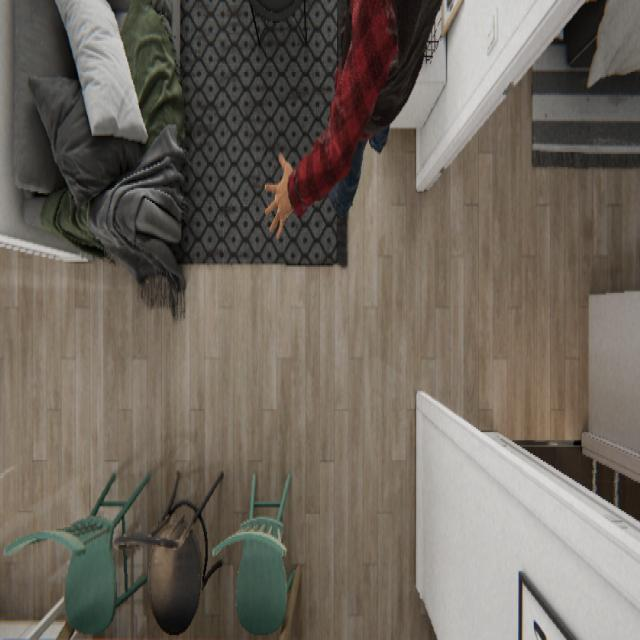Human: (262, 0, 443, 259)
